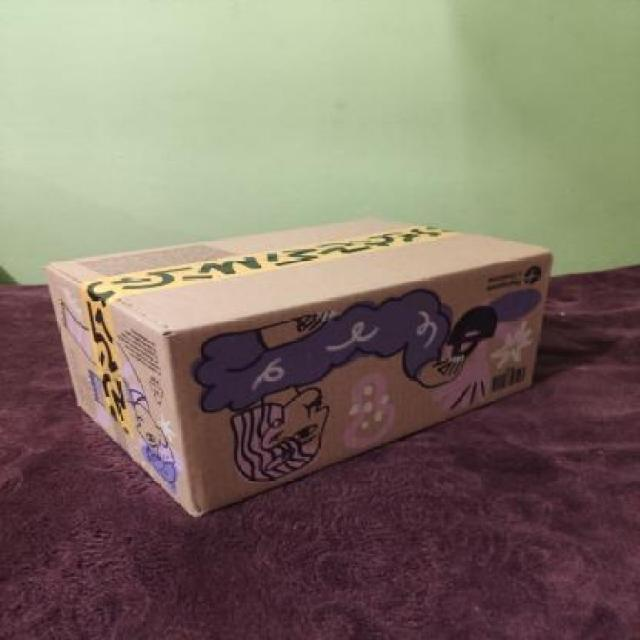box: (47, 203, 556, 517)
